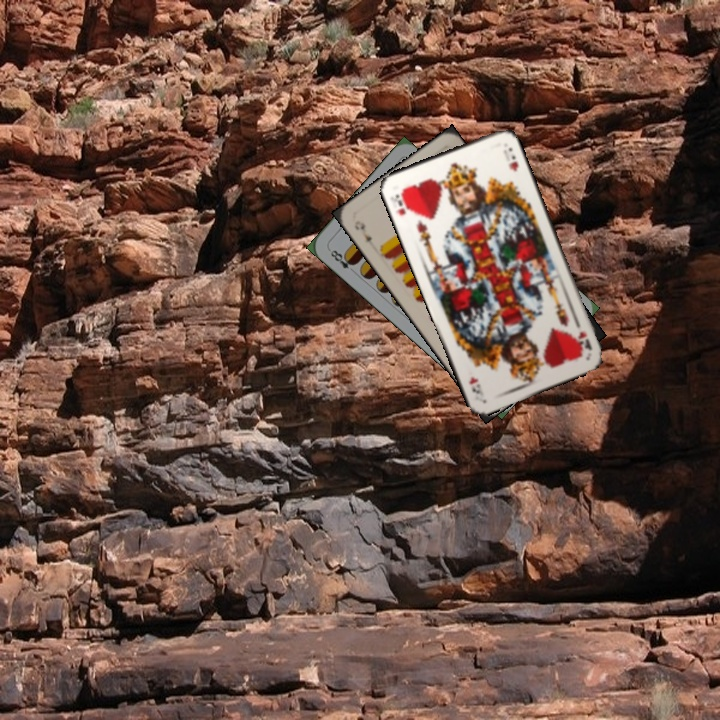E8: (325, 245, 358, 276)
E9: (350, 216, 375, 244)
HK: (391, 185, 413, 218), (574, 327, 595, 354)
